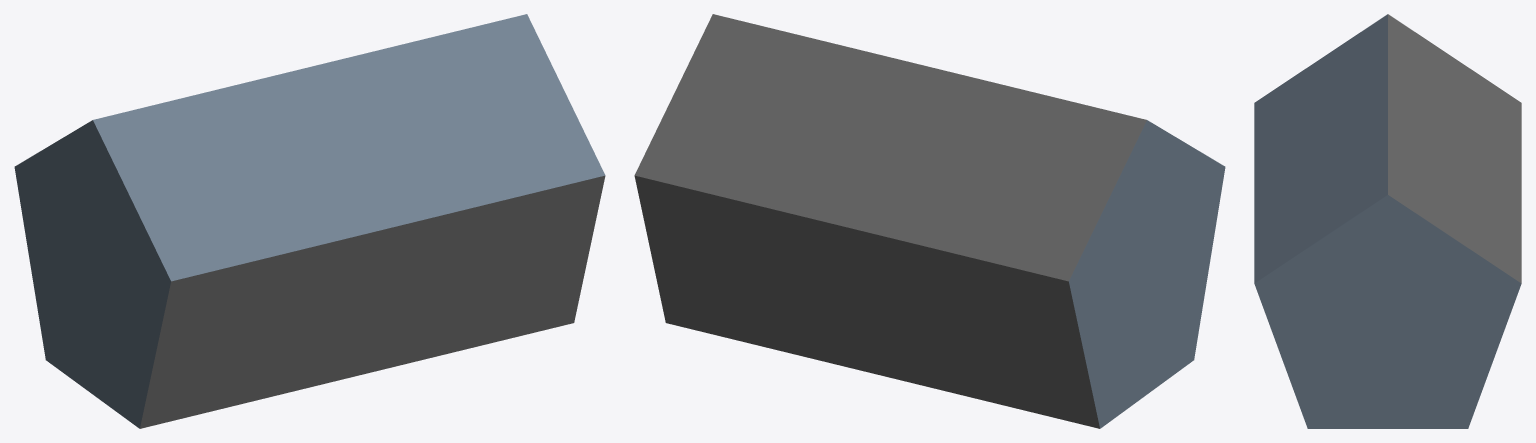
The model's file is cargocannister.obj.
The picture shows the model from 3 angles, left to right: view 1: azimuth 30°, elevation 25°; view 2: azimuth 150°, elevation 25°; view 3: azimuth 270°, elevation 25°; orthographic projection. The views are drawn at different scales.
Size of the model in its own units: 48 by 29 by 30.
